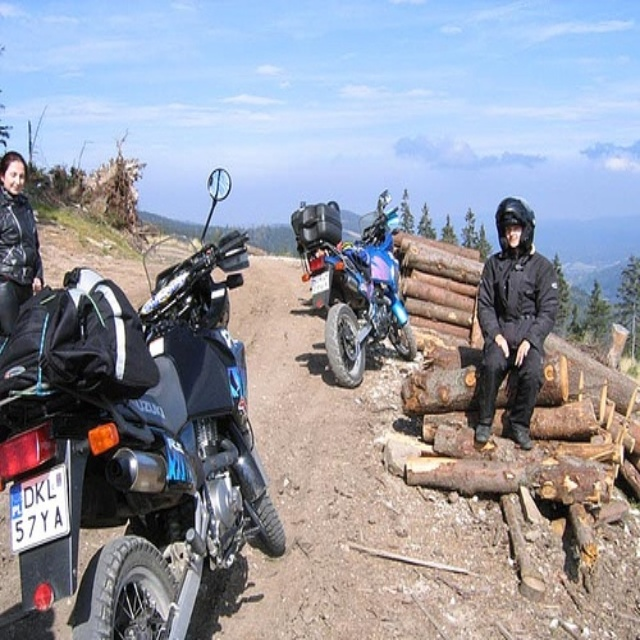Motorcycle: (1, 169, 287, 640), (300, 189, 417, 389)
